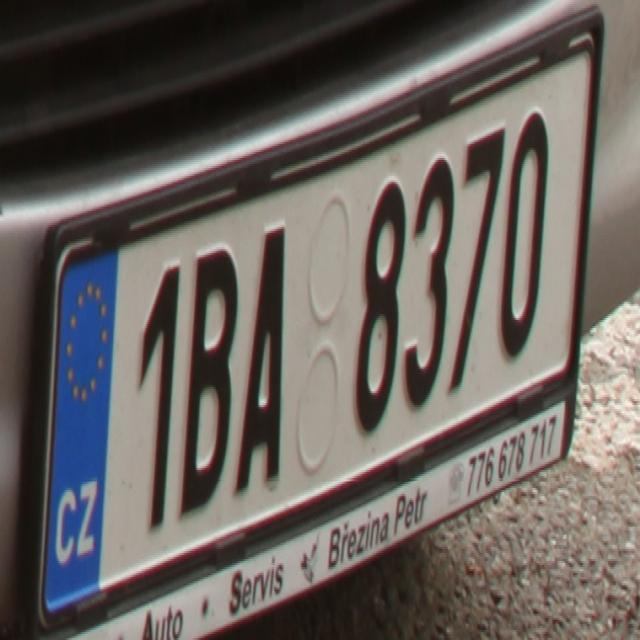0: (504, 110, 549, 360)
1: (134, 261, 180, 537)
3: (408, 150, 453, 407)
7: (454, 130, 509, 400)
8: (352, 176, 405, 432)
A: (236, 227, 286, 492)
B: (184, 245, 234, 517)
